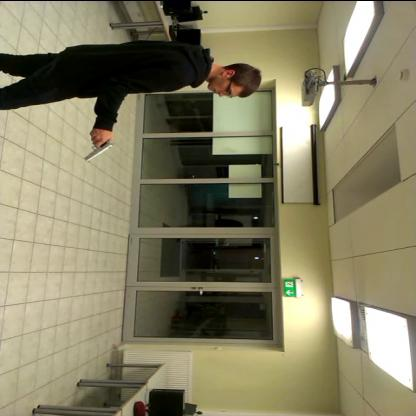Pistol: (78, 133, 121, 167)
